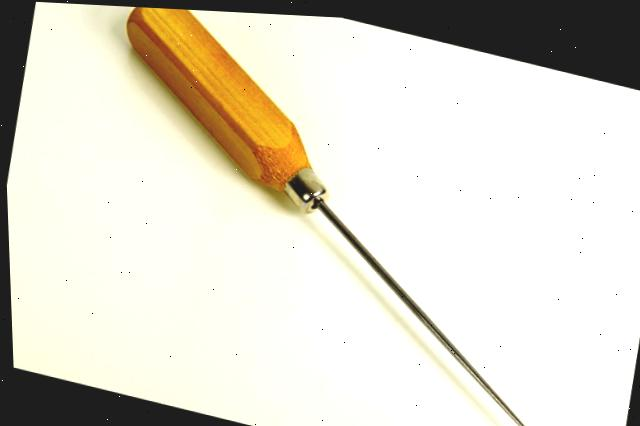ice pick: (65, 3, 606, 426)
